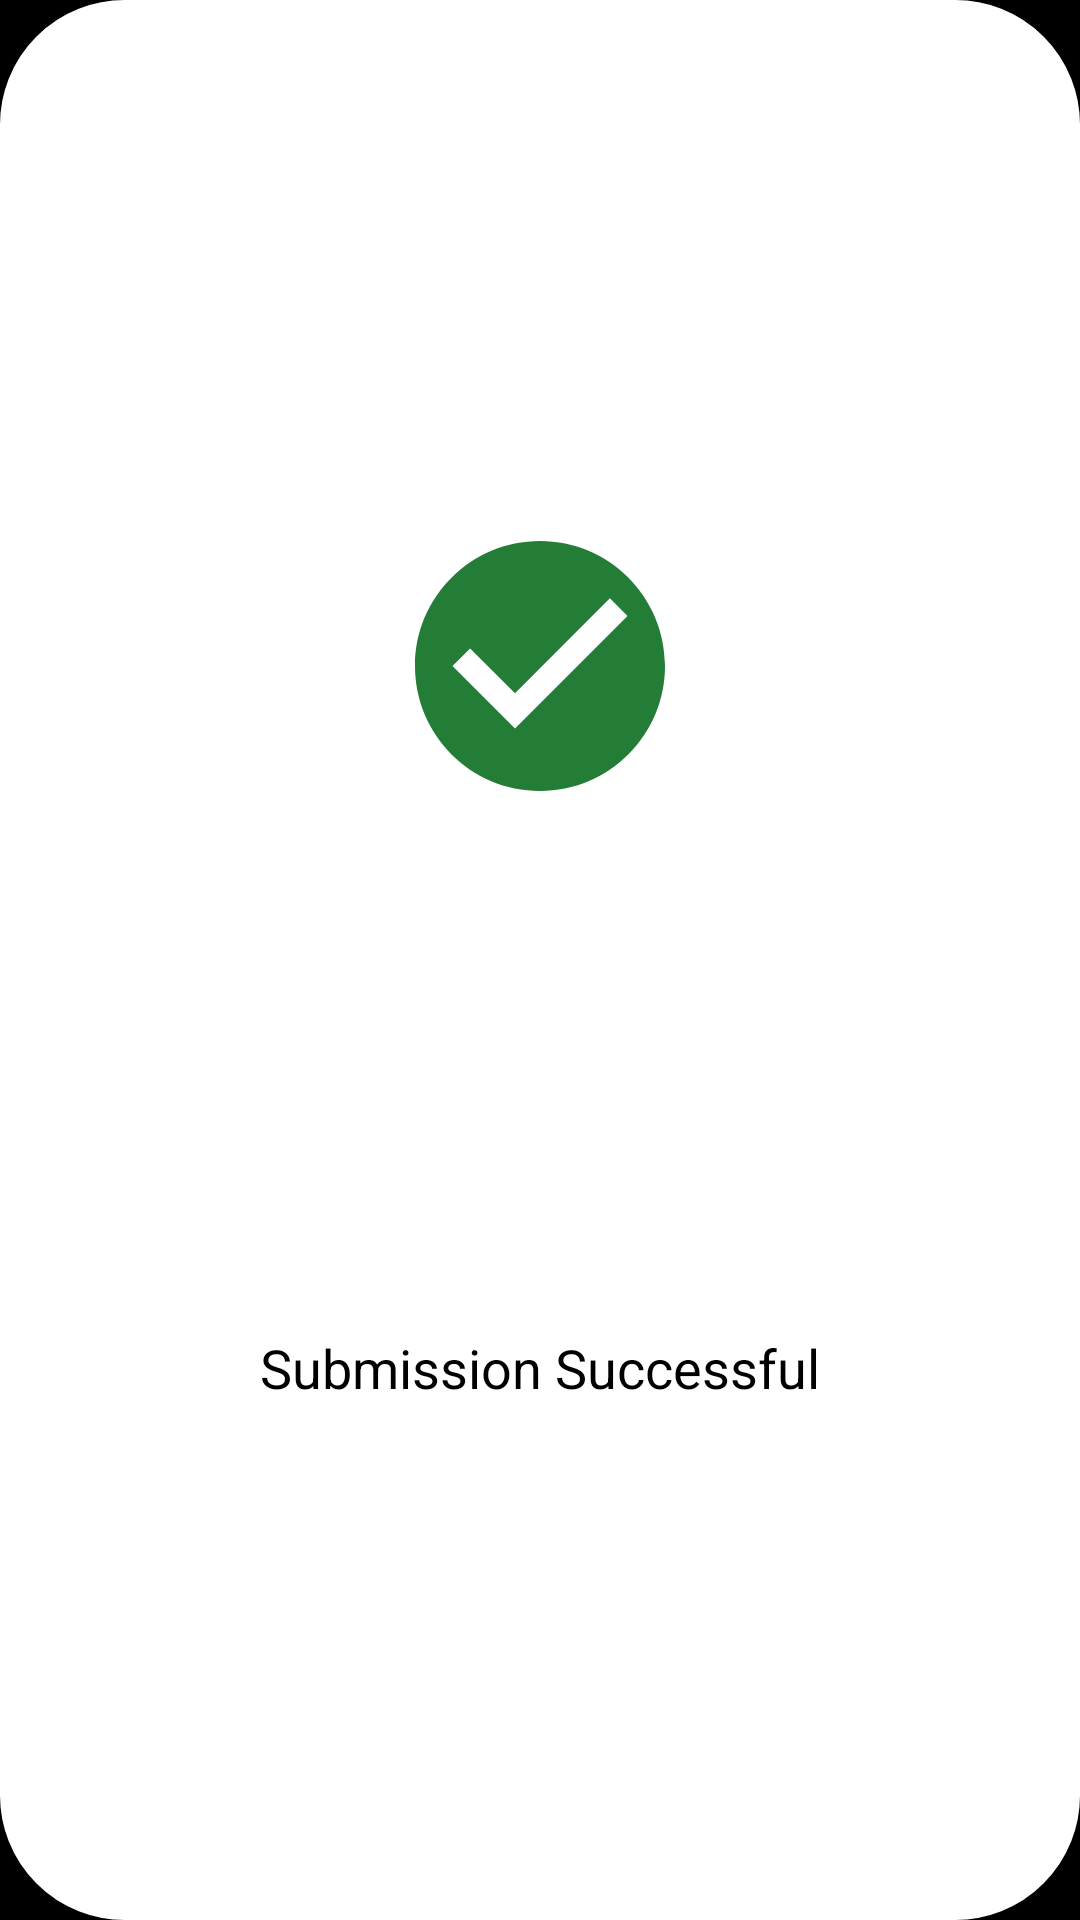

Locate icon controls on the screen. Image size 1080px×1920px, boxes as (x1, y1, x2, y2).
Icone pour désigner le succès: (415, 541, 665, 791)
